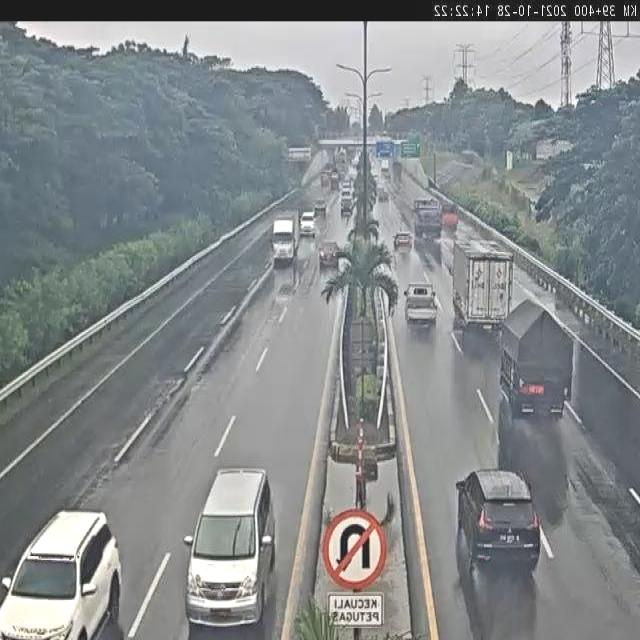Car: (0, 509, 121, 640), (454, 466, 544, 569), (318, 240, 340, 268), (299, 210, 316, 237), (393, 232, 413, 251), (341, 198, 354, 217), (314, 200, 326, 219), (342, 179, 351, 196)
Truck: (497, 299, 575, 421), (448, 239, 516, 330), (404, 282, 438, 326), (411, 197, 443, 242), (270, 212, 296, 265), (439, 198, 460, 232), (380, 158, 390, 172)
Van: (182, 466, 276, 634)
